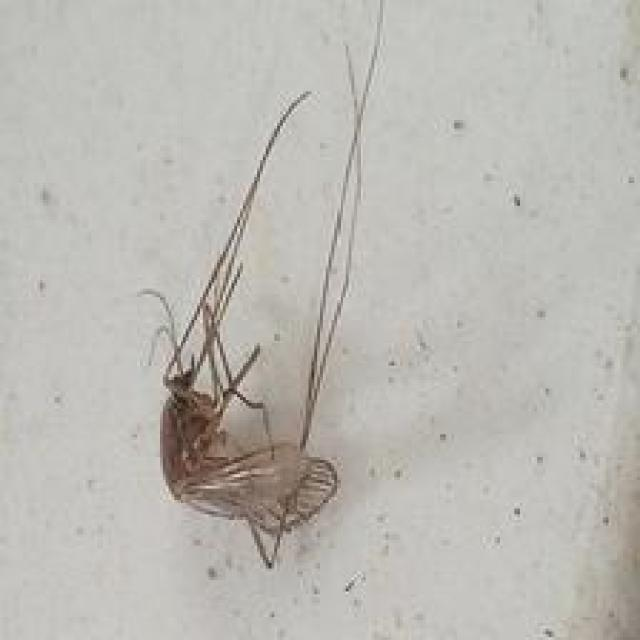Culex: (137, 0, 392, 569)
